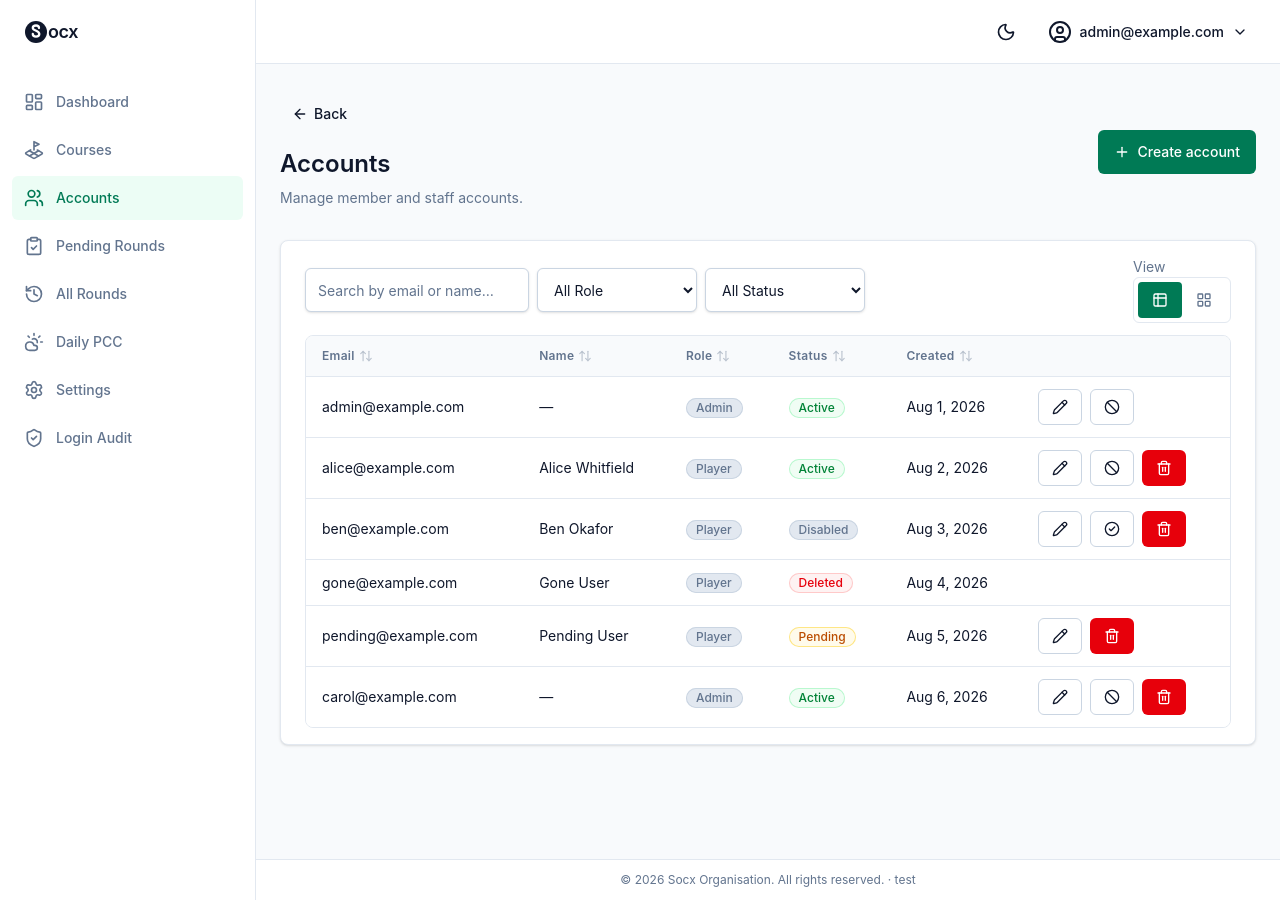
Test: AdminAccountsPage › Delete opens a real confirmation modal naming the account, not window.confirm
Expected: the text "alice@example.com" is shown, x1=306 y1=438 x2=523 y2=498
Click the button named "Delete alice@example.com" at (1164, 468), box x1=1142 y1=450 x2=1186 y2=486
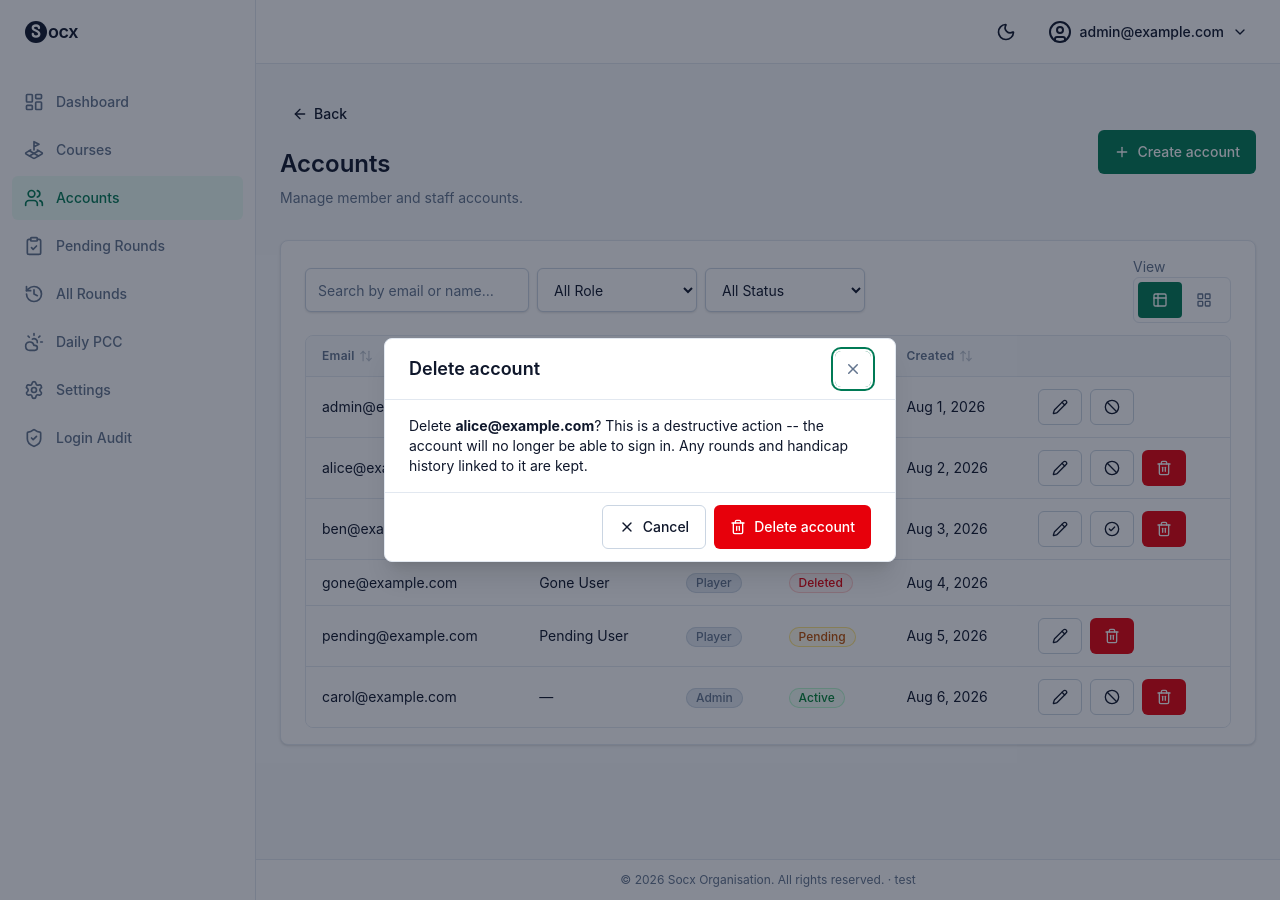
Expected: the text "alice@example.com" is shown, x1=455 y1=417 x2=594 y2=434
